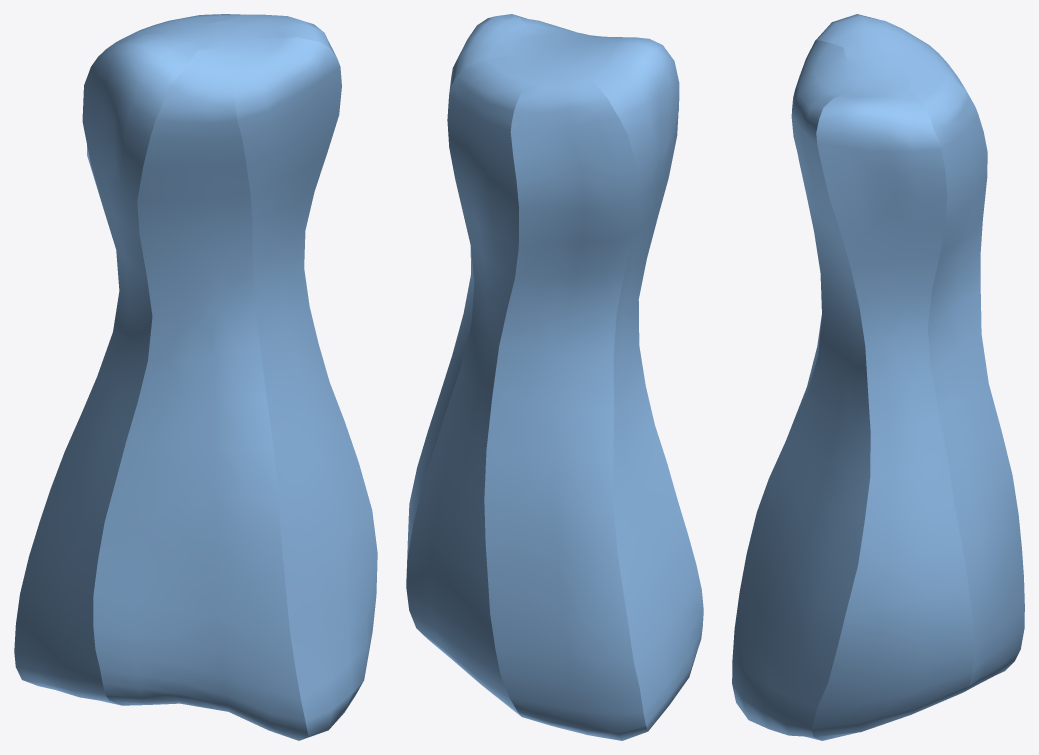
File: arm_LeftForeArm.glb
3 views of the same model, side by side, from view 1: azimuth 30°, elevation 25°; view 2: azimuth 150°, elevation 25°; view 3: azimuth 270°, elevation 25° (orthographic). The views are drawn at different scales.
Visible parts, largest first — view 1: mixamorig:LeftForeArm; view 2: mixamorig:LeftForeArm; view 3: mixamorig:LeftForeArm.
Boxes of the visible parts, x1,y1,x2,y2 form: mixamorig:LeftForeArm: (14,14,377,740); mixamorig:LeftForeArm: (406,14,703,740); mixamorig:LeftForeArm: (732,14,1024,740).
Size of the model in its own units: 0.119 by 0.2675 by 0.1091.
